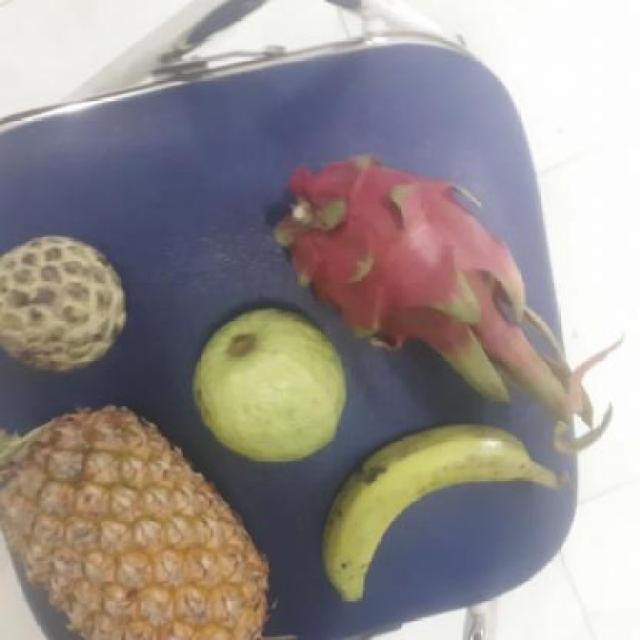dragon fruit: (269, 152, 523, 352)
guava: (190, 303, 355, 459)
pineapple: (0, 418, 272, 640)
sugar apple: (0, 236, 137, 373)
